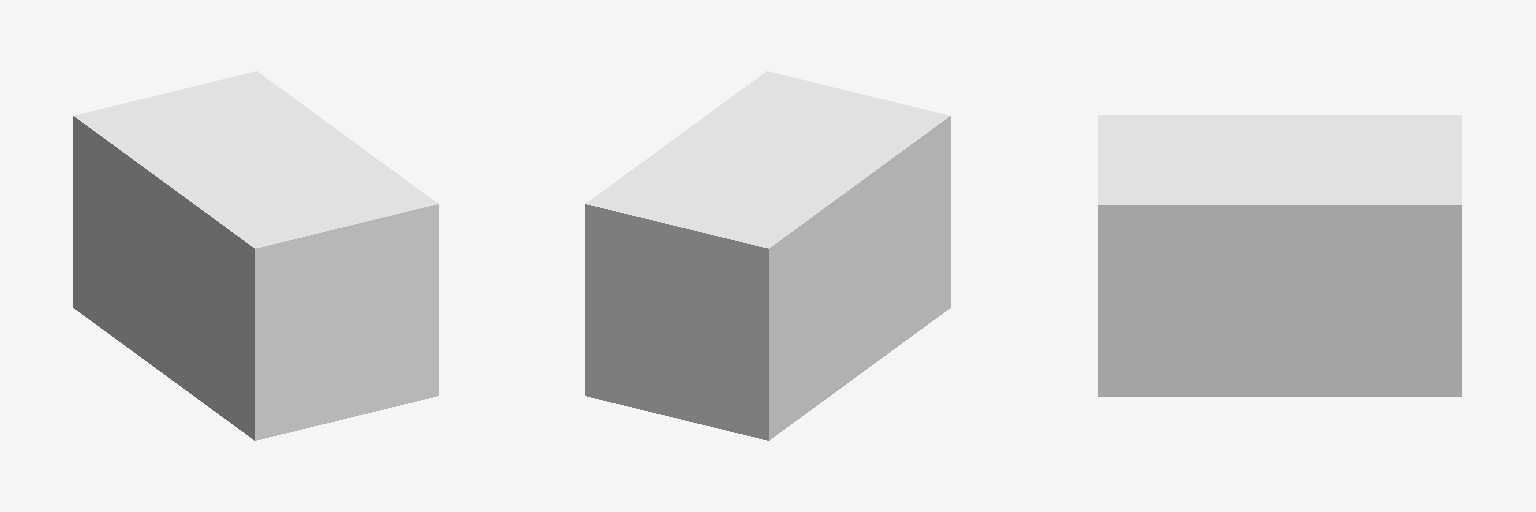
Rendered from Hammer-0-Martillo.obj.
The picture shows the model from 3 angles: view 1: azimuth 30°, elevation 25°; view 2: azimuth 150°, elevation 25°; view 3: azimuth 270°, elevation 25°; orthographic projection.
Visible parts, largest first — view 1: Martillo; view 2: Martillo; view 3: Martillo.
Boxes of the visible parts, x1=… form: Martillo: x1=73, y1=71, x2=438, y2=440; Martillo: x1=585, y1=71, x2=950, y2=440; Martillo: x1=1098, y1=115, x2=1461, y2=396.
Bounding box in the file's own units: 1.4 × 1.4 × 2.4.